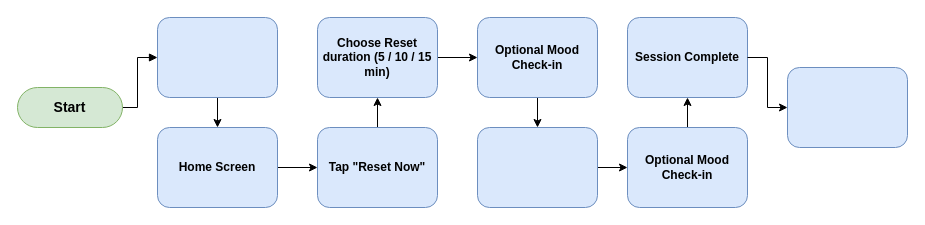
This 925x225 diagram has some shape labels left out. Here are the shapes that lost their labels. From the top down, the box of each, then its label:
(156, 16, 278, 98): User opens app
(786, 66, 908, 148): Return Home
(476, 126, 598, 208): Reset Session (breathing guidance + haptic)
